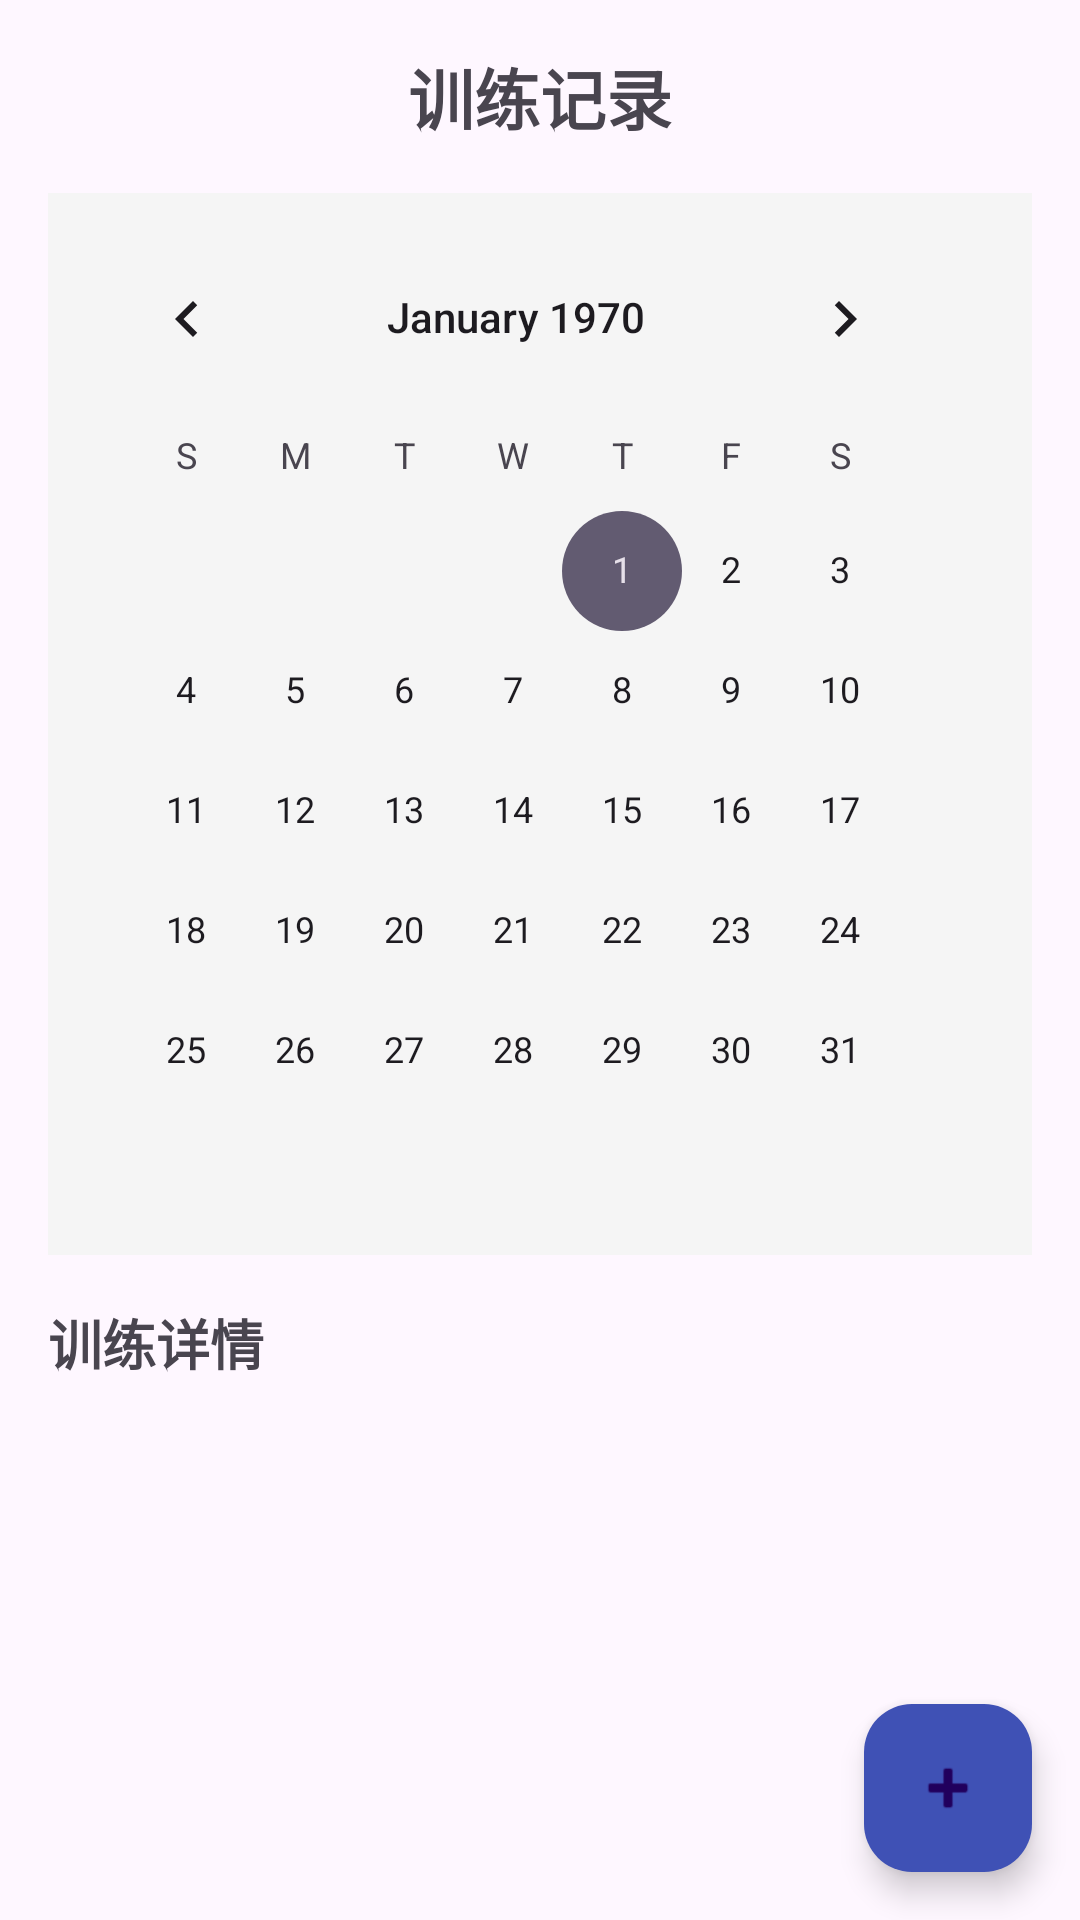

Icon click points for this 1080*1920 phone screenshot, format [x,y]:
添加训练: [948,1788]
